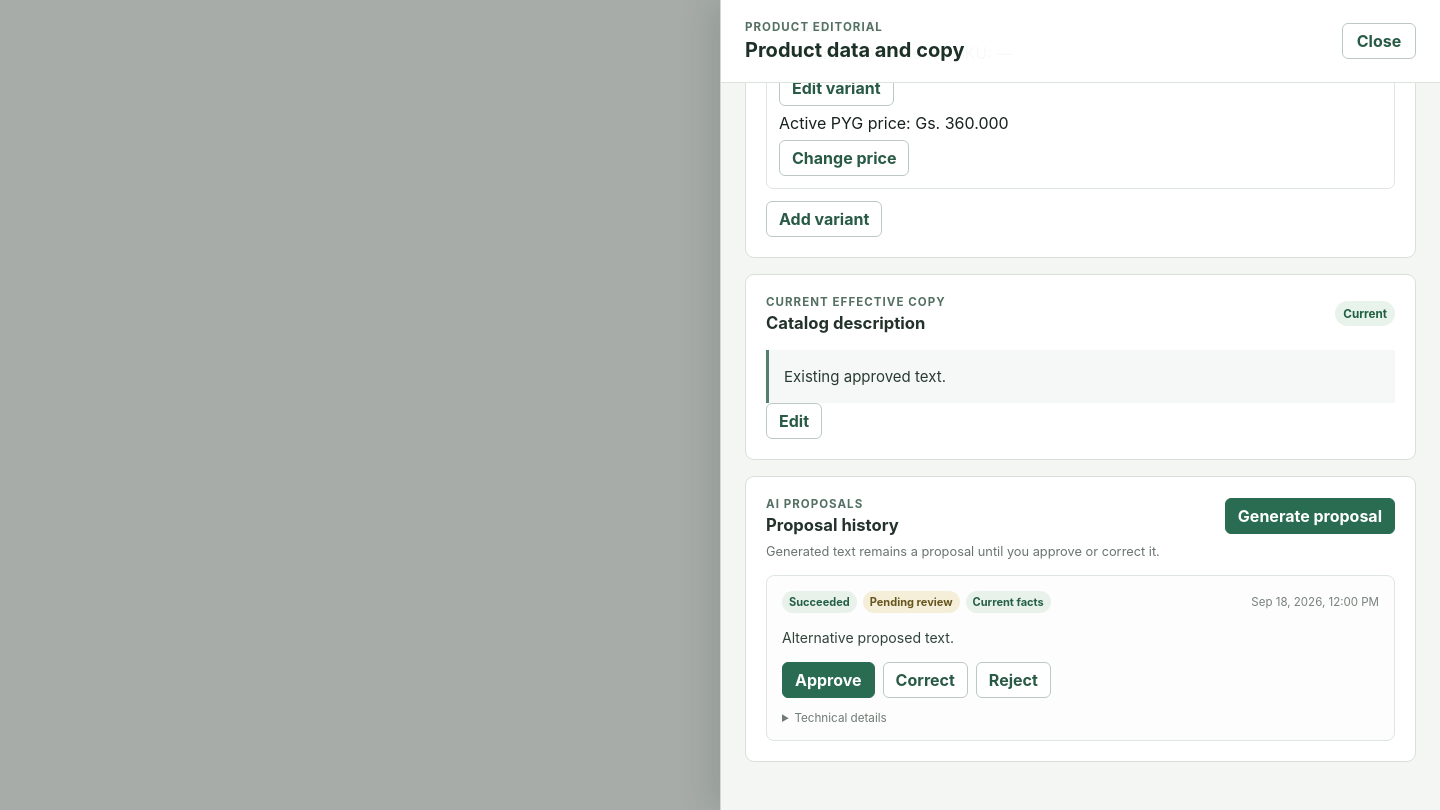
it: ProductEditorialDrawer › keeps current copy visible while a new generation is requested
(page scrolled)
What coordinates should you click on to do the following:
click the button "Generate proposal"
I would click on:
 (1310, 516)
Its box is [1225,498,1395,534].
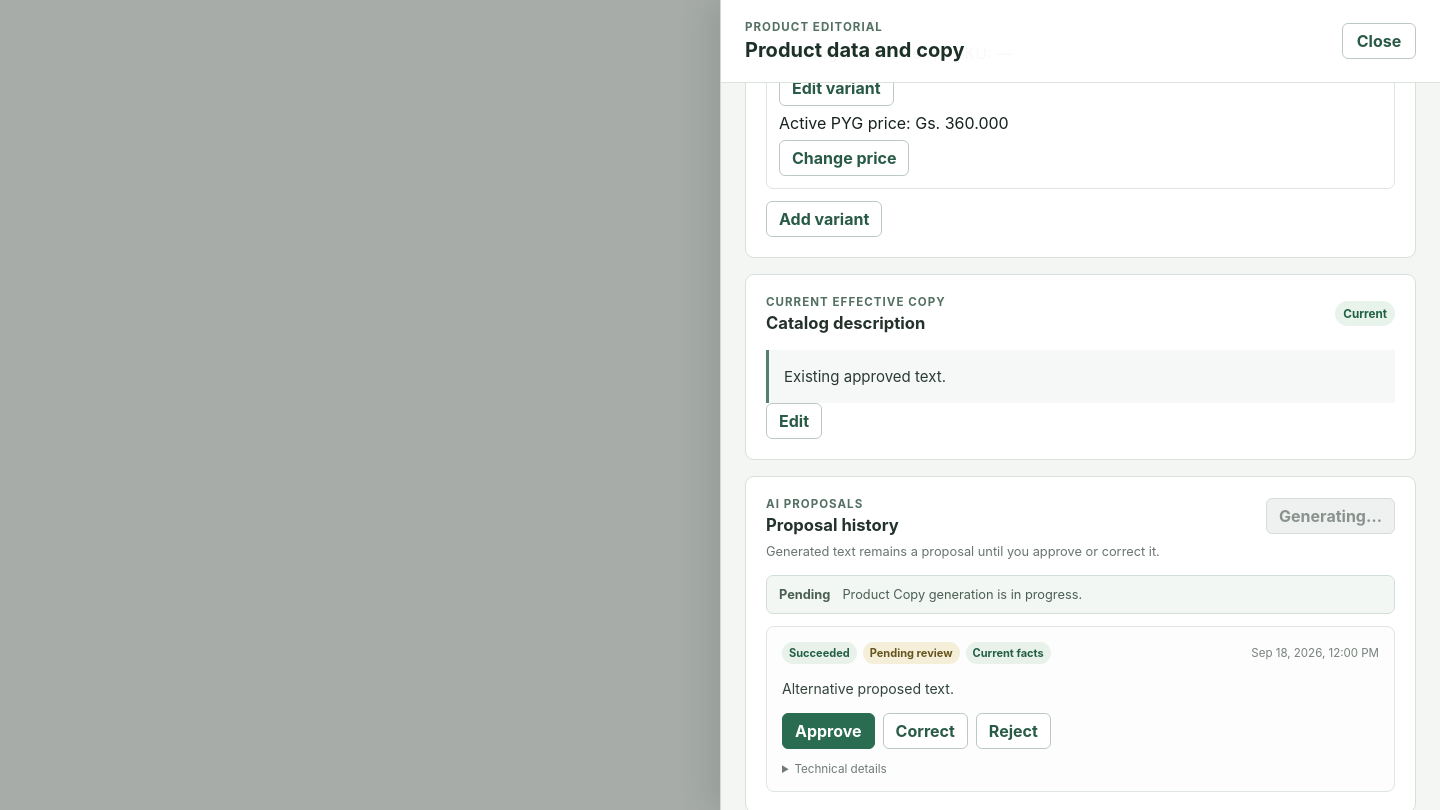
Expected: the text "Existing approved text." is shown, [766,350,1395,403]
Now the button "Generating…" is disabled, box [1266,498,1395,534]
Now the text "Product Copy generation is in progress." is shown, box [842,587,1082,602]
